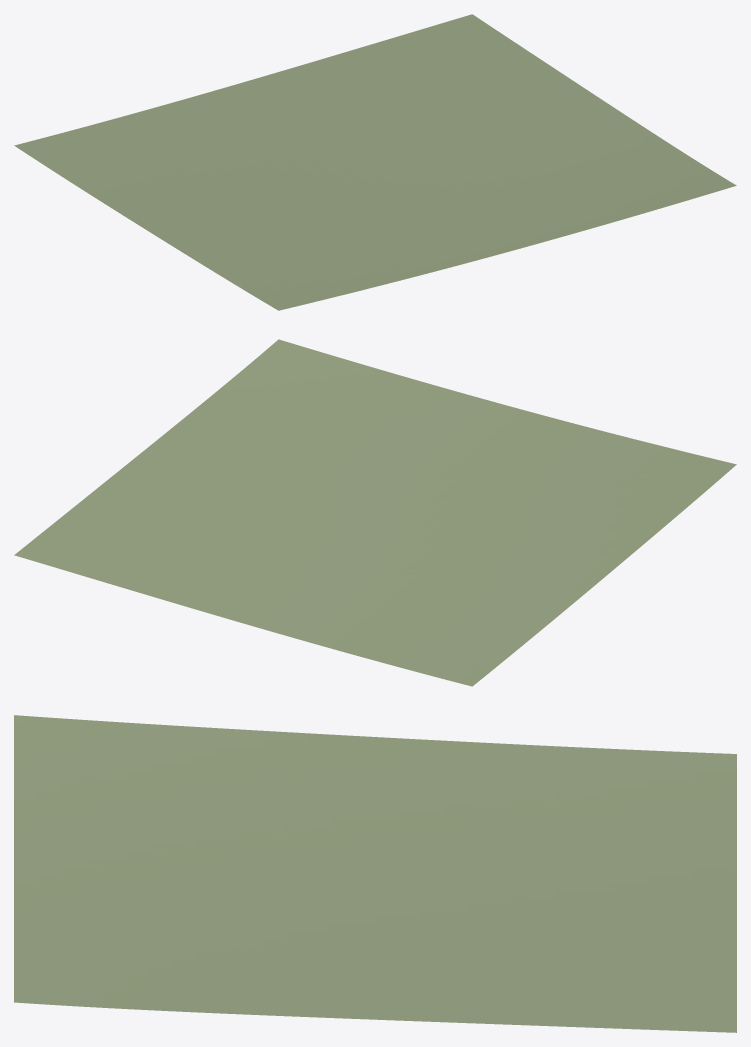
Rendered from expanse-25-26.glb.
3 renders of one model, top to bottom at view 1: azimuth 30°, elevation 25°; view 2: azimuth 150°, elevation 25°; view 3: azimuth 270°, elevation 25°, orthographic. The views are drawn at different scales.
Visible parts, largest first — view 1: expanse-25-26; view 2: expanse-25-26; view 3: expanse-25-26.
Boxes of the visible parts, x1,y1,x2,y2 form: expanse-25-26: (14, 14, 736, 310); expanse-25-26: (14, 339, 736, 686); expanse-25-26: (14, 715, 736, 1032).
Size of the model in its own units: 256 by 22.29 by 256.
